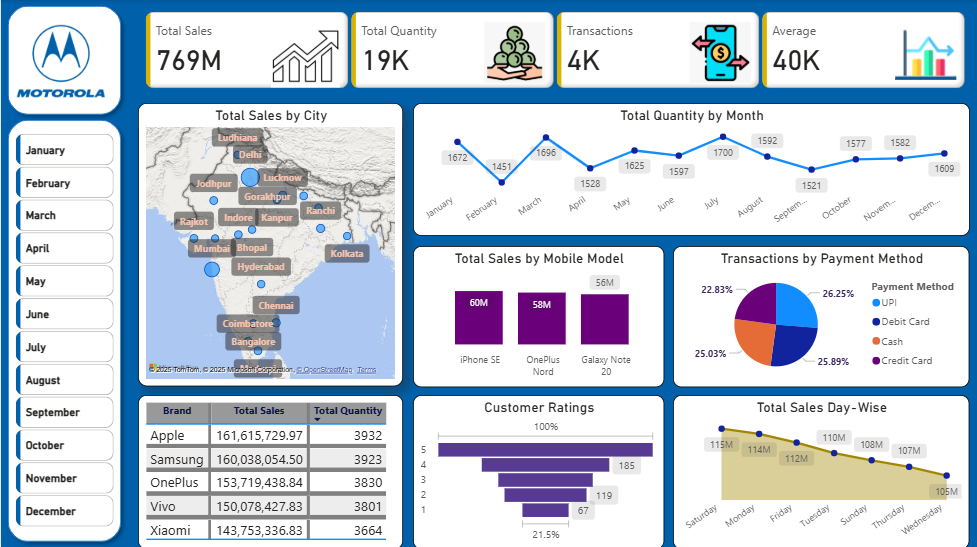

Layout of this report page (visuals, bound fields, positions):
{"tool":"powerbi","page":{"name":"Sales_dashboard","canvas":[1280,720],"ordinal":0},"visuals":[{"type":"shape","box":[0,0,166,160.2],"z":0},{"type":"image","box":[14.7,11.8,127.8,138.1],"z":1000},{"type":"shape","box":[0,149.9,166,570.1],"z":2000},{"type":"advancedSlicerVisual","fields":{"Values":["Sales_Data.Date.Variation.Date Hierarchy.Month"]},"box":[14.7,171.9,138.1,524.6],"z":3000},{"type":"cardVisual","fields":{"Data":["Sales_Data.Total Sales","Sales_Data.Total Quantity","Sales_Data.Transactions","Sales_Data.Average"]},"box":[184.8,12.1,1083.3,110.6],"z":4000},{"type":"map","fields":{"Category":["Sales_Data.City"],"Size":["Sales_Data.Total Sales"]},"box":[178.8,136.4,347,371.2],"z":5000},{"type":"lineChart","fields":{"Y":["Sales_Data.Total Quantity"],"Category":["Sales_Data.Date.Variation.Date Hierarchy.Month","Sales_Data.Date.Variation.Date Hierarchy.Day"]},"box":[539.4,136.4,728.8,174.2],"z":6000},{"type":"clusteredColumnChart","fields":{"Y":["Sales_Data.Total Sales"],"Category":["Sales_Data.Mobile Model"]},"box":[539.4,322.7,328.8,184.8],"z":7000},{"type":"pieChart","fields":{"Category":["Sales_Data.Payment Method"],"Y":["Sales_Data.Transactions"]},"box":[880.3,322.7,387.9,184.8],"z":8000},{"type":"funnel","title":"Customer Ratings","fields":{"Category":["Sales_Data.Customer Ratings"],"Y":["CountNonNull(Sales_Data.Customer Ratings)"]},"box":[539.4,518.2,328.8,201.5],"z":9000},{"type":"areaChart","title":"Total Sales Day-Wise","fields":{"Category":["Sales_Data.Day Name"],"Y":["Sales_Data.Total Sales"]},"box":[880.3,518.2,387.9,201.5],"z":10000},{"type":"tableEx","fields":{"Values":["Sales_Data.Brand","Sales_Data.Total Sales","Sales_Data.Total Quantity"]},"box":[178.8,518.2,347,201.5],"z":11000}]}

Visuals, with their boxes in screenshot pixels (x1, y1, x2, y2), scaled from the page's 1280x720 canvas onto the 977x547 screenshot:
shape: 0:0:127:122
image: 11:9:109:114
shape: 0:114:127:546
advancedSlicerVisual - Sales_Data.Date.Variation.Date Hierarchy.Month: 11:131:117:529
cardVisual - Sales_Data.Total Sales x Sales_Data.Total Quantity: 141:9:968:93
map - Sales_Data.City x Sales_Data.Total Sales: 136:104:401:386
lineChart - Sales_Data.Total Quantity x Sales_Data.Date.Variation.Date Hierarchy.Month: 412:104:968:236
clusteredColumnChart - Sales_Data.Total Sales x Sales_Data.Mobile Model: 412:245:663:386
pieChart - Sales_Data.Payment Method x Sales_Data.Transactions: 672:245:968:386
"Customer Ratings" funnel: 412:394:663:546
"Total Sales Day-Wise" areaChart: 672:394:968:546
tableEx - Sales_Data.Brand x Sales_Data.Total Sales: 136:394:401:546
